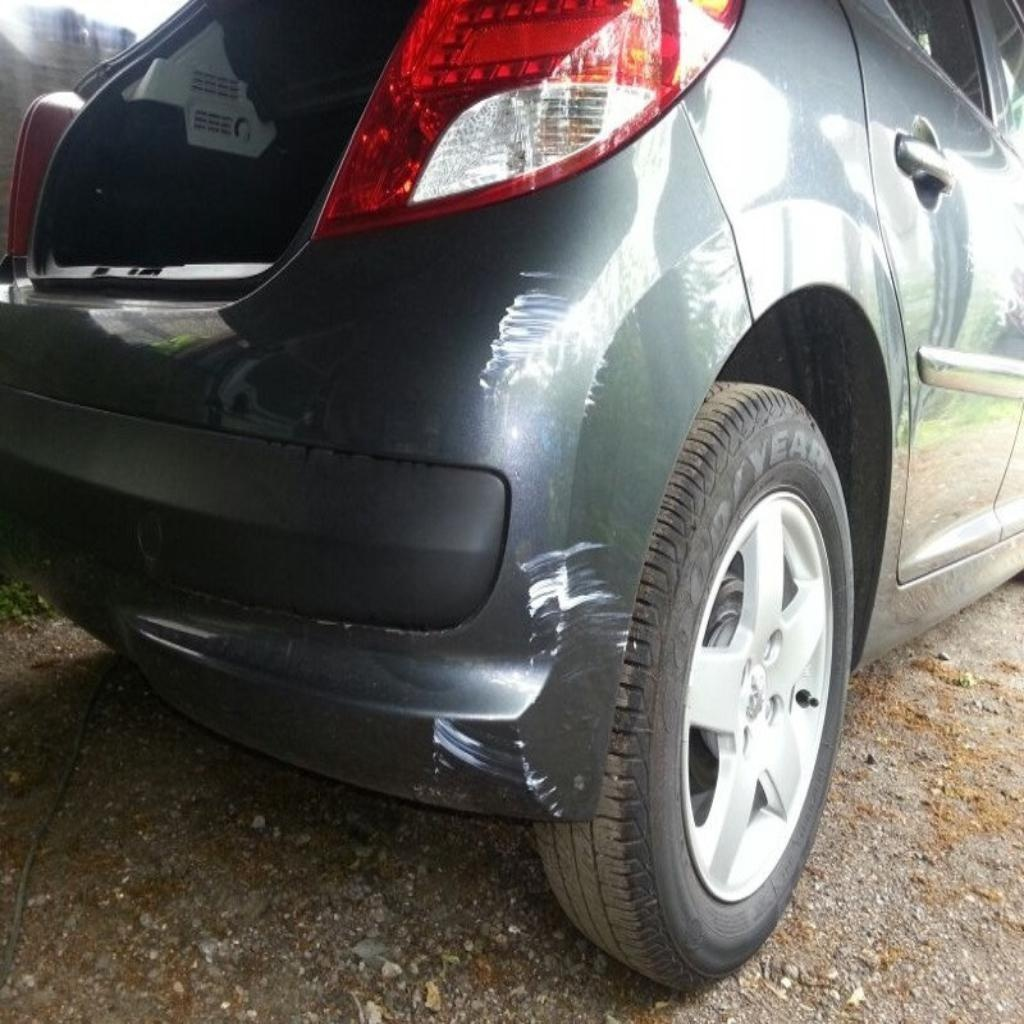Scratch: (417, 532, 632, 821), (473, 270, 631, 409), (127, 609, 231, 666)
